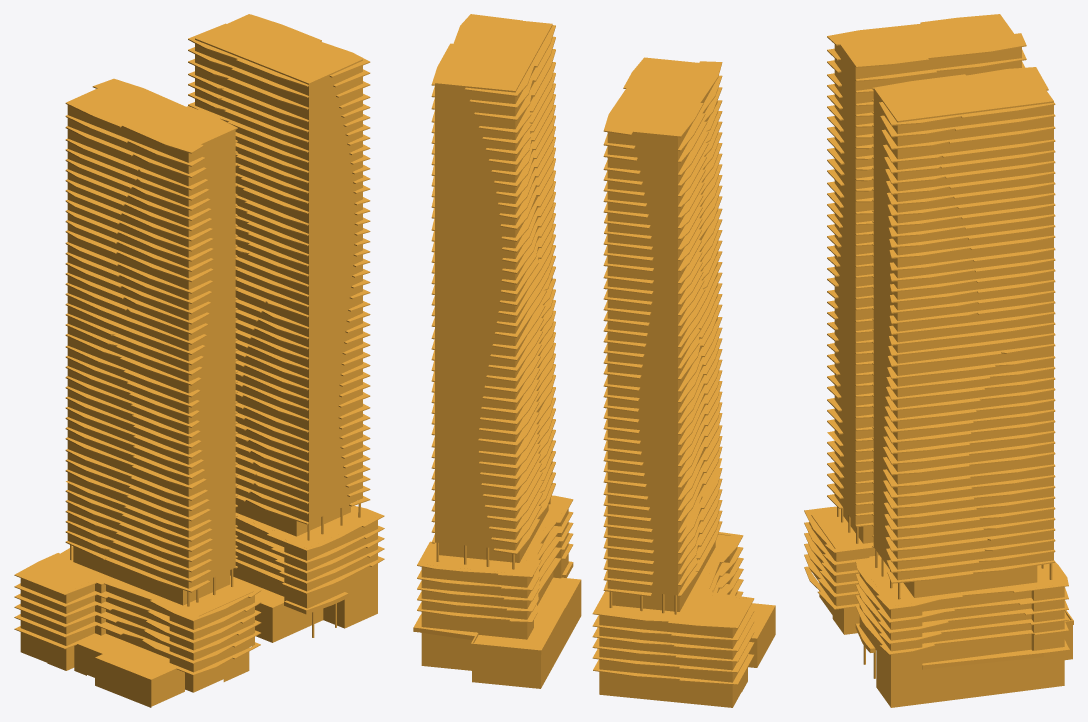
Rendered from dundas_761.glb.
The picture shows the model from 3 angles, left to right: view 1: azimuth 30°, elevation 25°; view 2: azimuth 150°, elevation 25°; view 3: azimuth 270°, elevation 25°; orthographic projection. The views are drawn at different scales.
Parts seen in each view (by area): view 1: empty_1736, empty_1750, empty_1780, empty_1732, empty_1726, empty_1693, empty_1739, empty_1775, empty_1837, empty_1686, empty_1717, empty_1795 (+93 smaller); view 2: empty_1750, empty_1736, empty_1737, empty_1780, empty_1732, empty_1726, empty_1837, empty_1831, empty_1738, empty_1775, empty_1693, empty_1795 (+91 smaller); view 3: empty_1750, empty_1780, empty_1732, empty_1837, empty_1736, empty_1737, empty_1775, empty_1795, empty_1831, empty_1800, empty_1773, empty_1783 (+49 smaller).
Boxes of the visible parts, x1,y1,x2,y2 form: empty_1736: [65, 102, 213, 592]; empty_1750: [188, 14, 384, 614]; empty_1780: [195, 14, 362, 107]; empty_1732: [67, 80, 235, 173]; empty_1726: [20, 550, 254, 629]; empty_1693: [20, 638, 249, 707]; empty_1739: [92, 578, 198, 675]; empty_1775: [235, 507, 377, 560]; empty_1837: [255, 591, 377, 642]; empty_1686: [73, 546, 230, 605]; empty_1717: [74, 633, 179, 679]; empty_1795: [230, 562, 377, 608]; empty_1750: [413, 14, 573, 632]; empty_1736: [678, 61, 722, 596]; empty_1737: [603, 57, 654, 596]; empty_1780: [435, 16, 552, 116]; empty_1732: [607, 57, 716, 161]; empty_1726: [599, 534, 747, 638]; empty_1837: [421, 593, 581, 688]; empty_1831: [421, 577, 581, 665]; empty_1738: [592, 532, 743, 684]; empty_1775: [421, 498, 568, 587]; empty_1693: [599, 616, 775, 707]; empty_1795: [421, 554, 568, 639]; empty_1750: [855, 67, 1069, 669]; empty_1780: [873, 67, 1053, 146]; empty_1732: [834, 15, 1021, 90]; empty_1837: [876, 635, 1072, 707]; empty_1736: [827, 14, 1000, 508]; empty_1737: [855, 33, 1026, 527]; empty_1775: [859, 559, 1064, 619]; empty_1795: [859, 616, 1064, 671]; empty_1831: [876, 616, 1072, 684]; empty_1800: [903, 565, 1037, 597]; empty_1773: [873, 113, 1053, 159]; empty_1783: [873, 331, 1053, 375].
Size of the model in its own units: 96.57 by 162 by 67.62.
